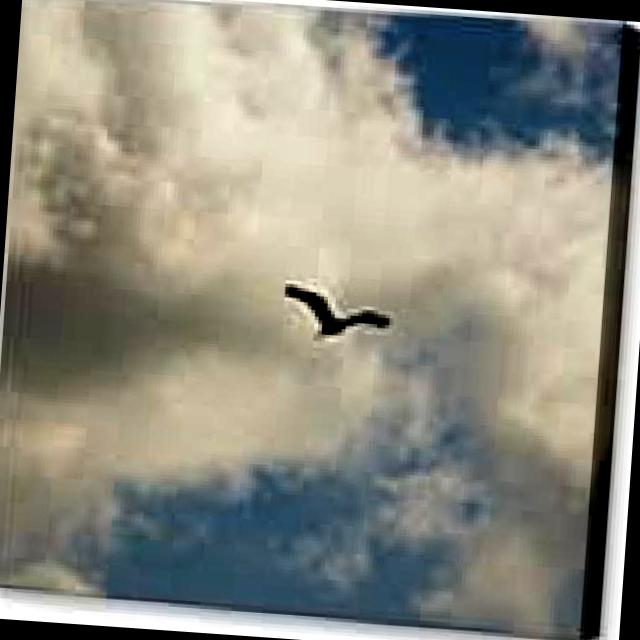bird: (282, 272, 398, 342)
